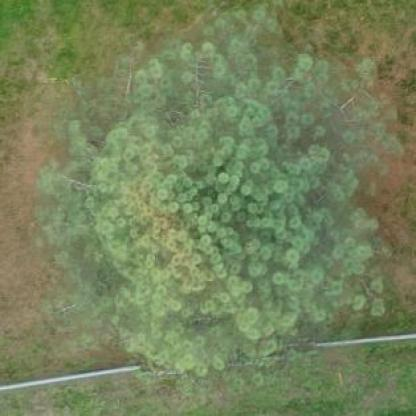Coniferous Tree: (31, 36, 410, 372)
